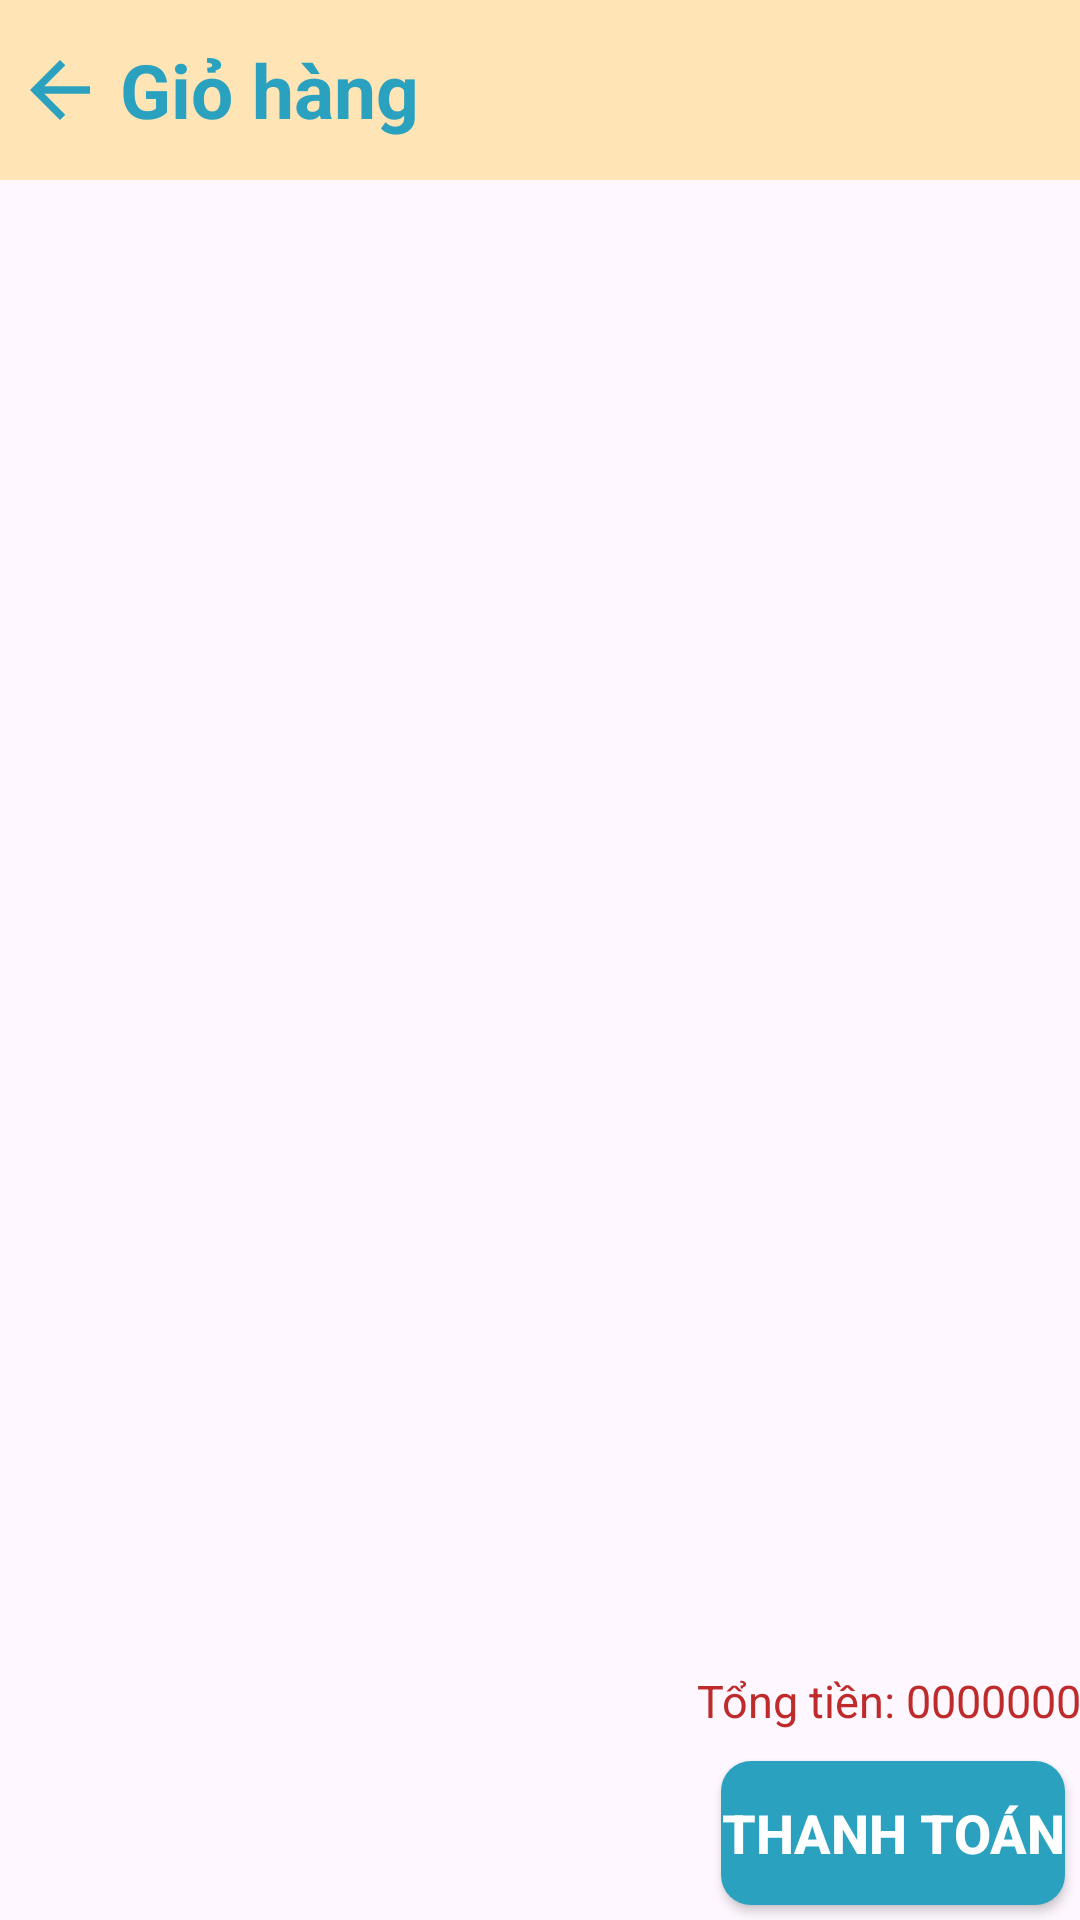

Screen size 1080px×1920px. Icon name, then its center in pixels as (x=x, y=y):
back: (x=60, y=90)
